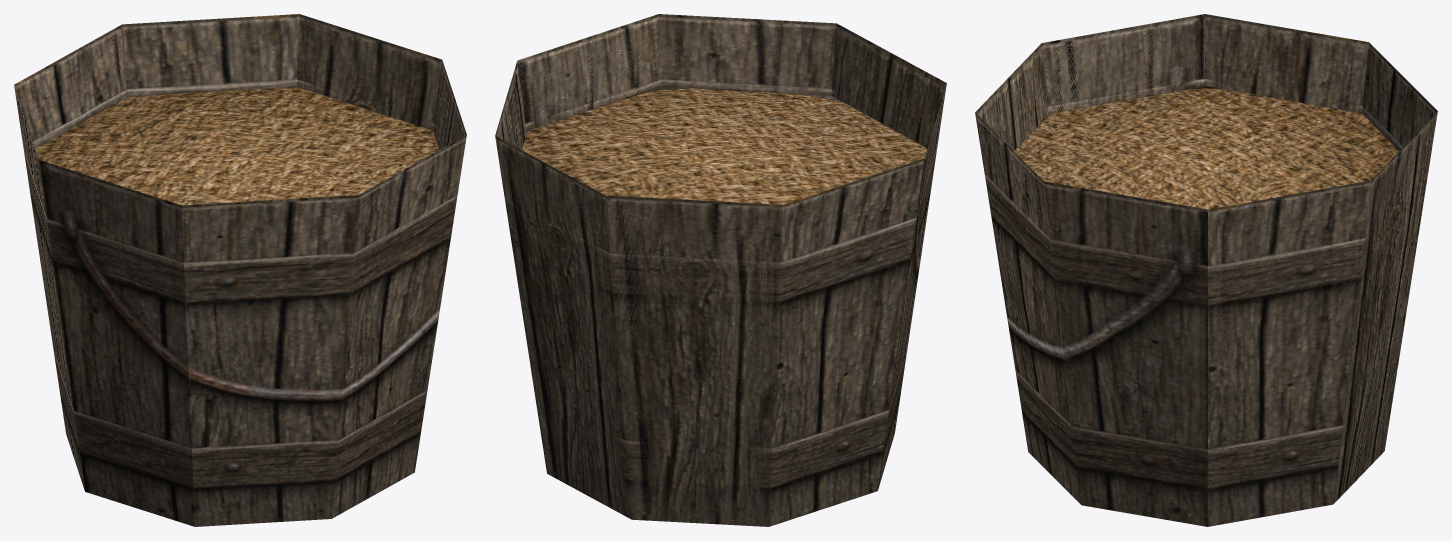
File: mm9_deco_bucket02.glb
The picture shows the model from 3 angles, left to right: view 1: azimuth 30°, elevation 25°; view 2: azimuth 150°, elevation 25°; view 3: azimuth 270°, elevation 25°; orthographic projection.
Parts seen in each view (by area): view 1: Bucket02; view 2: Bucket02; view 3: Bucket02.
Boxes of the visible parts, left/top/right/bottom form: Bucket02: left=14, top=14, right=466, bottom=526; Bucket02: left=495, top=14, right=946, bottom=526; Bucket02: left=975, top=14, right=1437, bottom=526.
Bounding box in the file's own units: 0.489 × 0.3962 × 0.489.
1 material, 1 textured.
